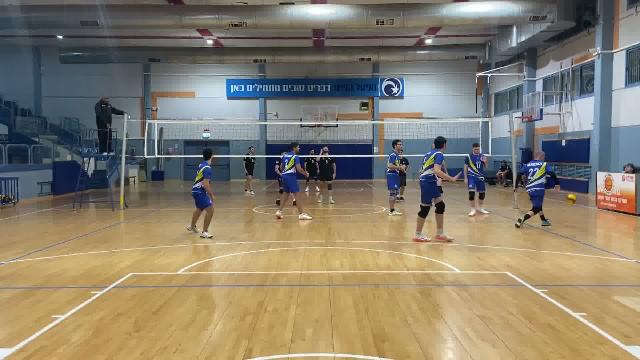ball: (562, 192, 578, 205)
